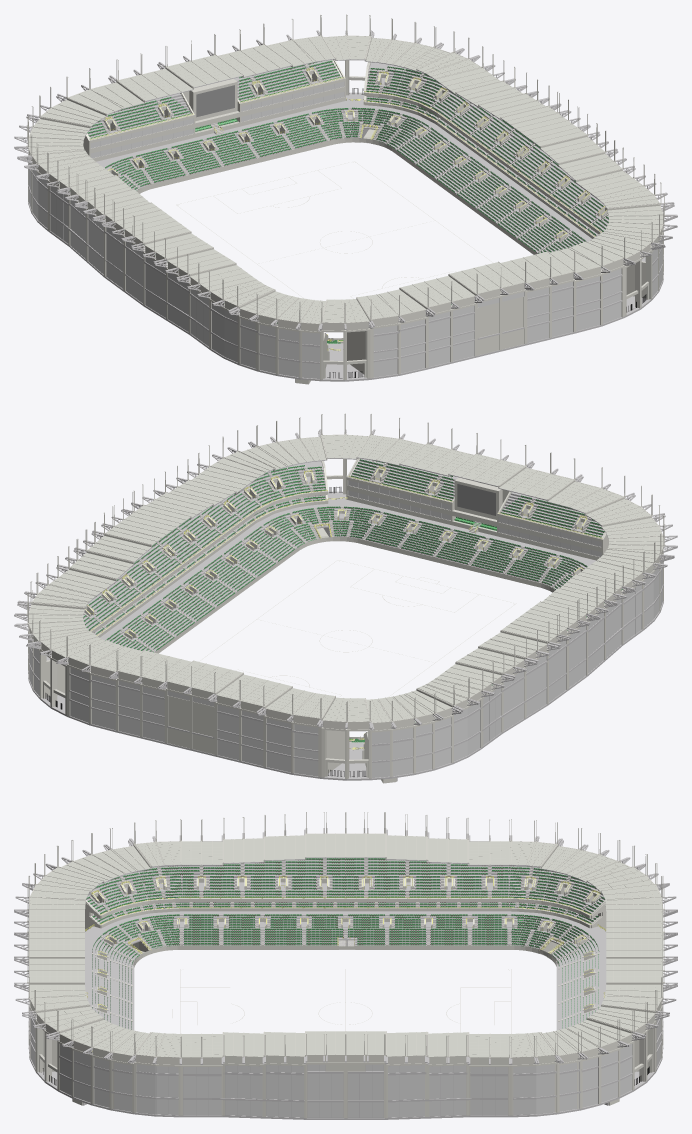
The model's file is Football Arena.fbx.
The picture shows the model from 3 angles, top to bottom: view 1: azimuth 30°, elevation 25°; view 2: azimuth 150°, elevation 25°; view 3: azimuth 270°, elevation 25°; orthographic projection. The views are drawn at different scales.
Parts seen in each view (by area): view 1: Roof Shade, WIndows_Outer, Lower Bowl, Seats, Roof Shade.001, Roof Beams, Supports.001, Stand, Top Tier, Roof Beams.001, Trusses, Windows (+25 smaller); view 2: Roof Shade, WIndows_Outer, Roof Shade.001, Lower Bowl, Seats, Roof Beams, Supports.001, Stand, Top Tier, Roof Beams.001, Trusses, Windows (+25 smaller); view 3: Roof Shade, Seats, Lower Bowl, WIndows_Outer, Roof Shade.001, Top Tier, Roof Beams, Windows, Roof Beams.001, Stand, Supports.001, Upper Wall.001 (+22 smaller).
Part boxes in pixels (box(x1,y1,x2,y2)): Roof Shade: box(29, 36, 662, 323); WIndows_Outer: box(28, 163, 662, 378); Lower Bowl: box(97, 101, 584, 351); Seats: box(87, 60, 608, 343); Roof Shade.001: box(28, 36, 658, 323); Roof Beams: box(29, 35, 663, 323); Supports.001: box(28, 60, 663, 379); Stand: box(83, 59, 645, 374); Top Tier: box(41, 64, 608, 314); Roof Beams.001: box(28, 35, 663, 324); Trusses: box(15, 30, 676, 330); Windows: box(50, 81, 344, 346); Roof Shade: box(29, 435, 662, 722); WIndows_Outer: box(29, 561, 662, 777); Roof Shade.001: box(29, 435, 663, 722); Lower Bowl: box(100, 499, 595, 750); Seats: box(83, 459, 622, 742); Roof Beams: box(29, 434, 663, 722); Supports.001: box(28, 459, 663, 778); Stand: box(47, 458, 608, 773); Top Tier: box(83, 463, 650, 712); Roof Beams.001: box(28, 434, 663, 723); Trusses: box(15, 429, 677, 729); Windows: box(348, 480, 641, 744); Roof Shade: box(30, 835, 660, 1057); Seats: box(86, 858, 604, 1029); Lower Bowl: box(85, 911, 606, 1030); WIndows_Outer: box(29, 1010, 662, 1117); Roof Shade.001: box(28, 834, 663, 1056); Top Tier: box(86, 858, 604, 1075); Roof Beams: box(29, 833, 661, 1057); Windows: box(183, 1064, 507, 1117); Roof Beams.001: box(29, 833, 663, 1057); Stand: box(43, 898, 647, 1071); Supports.001: box(28, 1005, 663, 1118); Upper Wall.001: box(29, 997, 662, 1064).
Bounding box in the file's own units: 18198 × 3467 × 21879.
